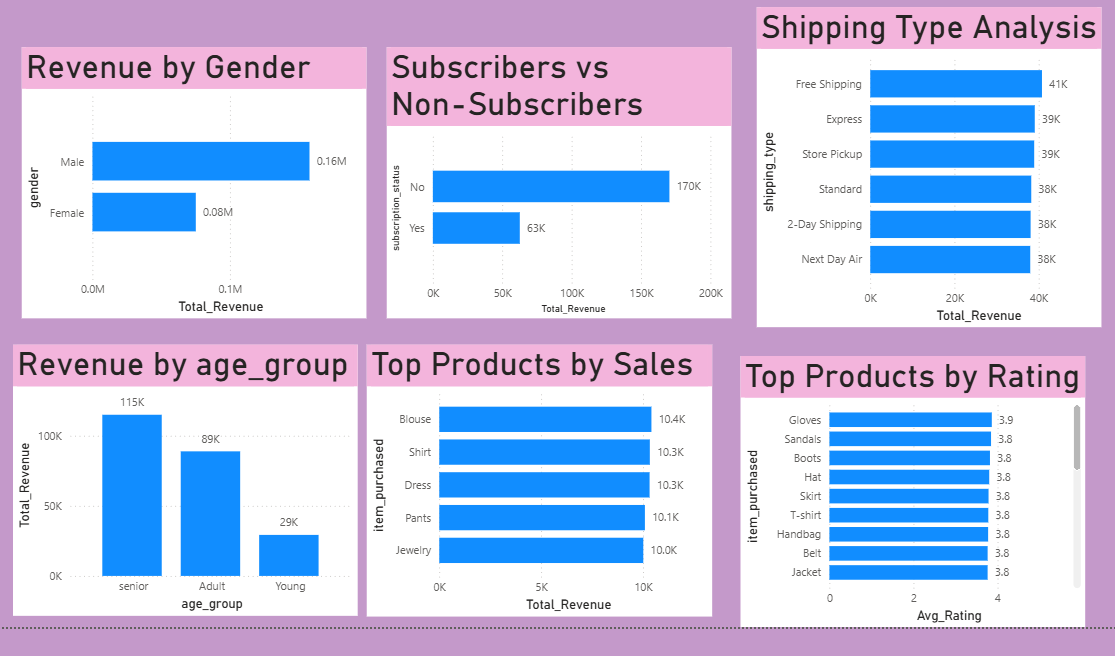

The page's visual inventory and layout, read from the dashboard file:
{"tool":"powerbi","page":{"name":"Page 2","canvas":[1280,720],"ordinal":1},"visuals":[{"type":"barChart","title":"Revenue by Gender","fields":{"Category":["cleaned_customer_data.gender"],"Y":["Cleaned Customer Data.Total_Revenue"]},"box":[59,83.7,378.7,297.8],"z":0},{"type":"columnChart","title":"Revenue by age_group","fields":{"Category":["cleaned_customer_data.age_group"],"Y":["Cleaned Customer Data.Total_Revenue"]},"box":[49.4,410.3,378.7,297.8],"z":1000},{"type":"barChart","title":"Subscribers vs Non-Subscribers","fields":{"Category":["cleaned_customer_data.subscription_status"],"Y":["Cleaned Customer Data.Total_Revenue"]},"box":[459.7,83.7,378.7,297.8],"z":2000},{"type":"barChart","title":"Shipping Type Analysis","fields":{"Category":["cleaned_customer_data.shipping_type"],"Y":["Cleaned Customer Data.Total_Revenue"]},"box":[865.9,39.8,378.7,351.3],"z":3000},{"type":"barChart","title":"Top Products by Sales","fields":{"Category":["cleaned_customer_data.item_purchased"],"Y":["Cleaned Customer Data.Total_Revenue"]},"box":[438,410,379,298],"z":4000},{"type":"barChart","title":"Top Products by Rating","fields":{"Category":["cleaned_customer_data.item_purchased"],"Y":["Cleaned Customer Data.Avg_Rating"]},"box":[848,422.6,378.7,297.8],"z":5000}]}

Visuals, with their boxes on the page's 1280x720 design canvas (x1, y1, x2, y2). These are canvas units, not pixel positions in the 1115x656 screenshot, which may show the page scaled, cropped or inside an application window:
"Revenue by Gender" barChart: {"x1": 59, "y1": 84, "x2": 438, "y2": 382}
"Revenue by age_group" columnChart: {"x1": 49, "y1": 410, "x2": 428, "y2": 708}
"Subscribers vs Non-Subscribers" barChart: {"x1": 460, "y1": 84, "x2": 838, "y2": 382}
"Shipping Type Analysis" barChart: {"x1": 866, "y1": 40, "x2": 1245, "y2": 391}
"Top Products by Sales" barChart: {"x1": 438, "y1": 410, "x2": 817, "y2": 708}
"Top Products by Rating" barChart: {"x1": 848, "y1": 423, "x2": 1227, "y2": 720}
